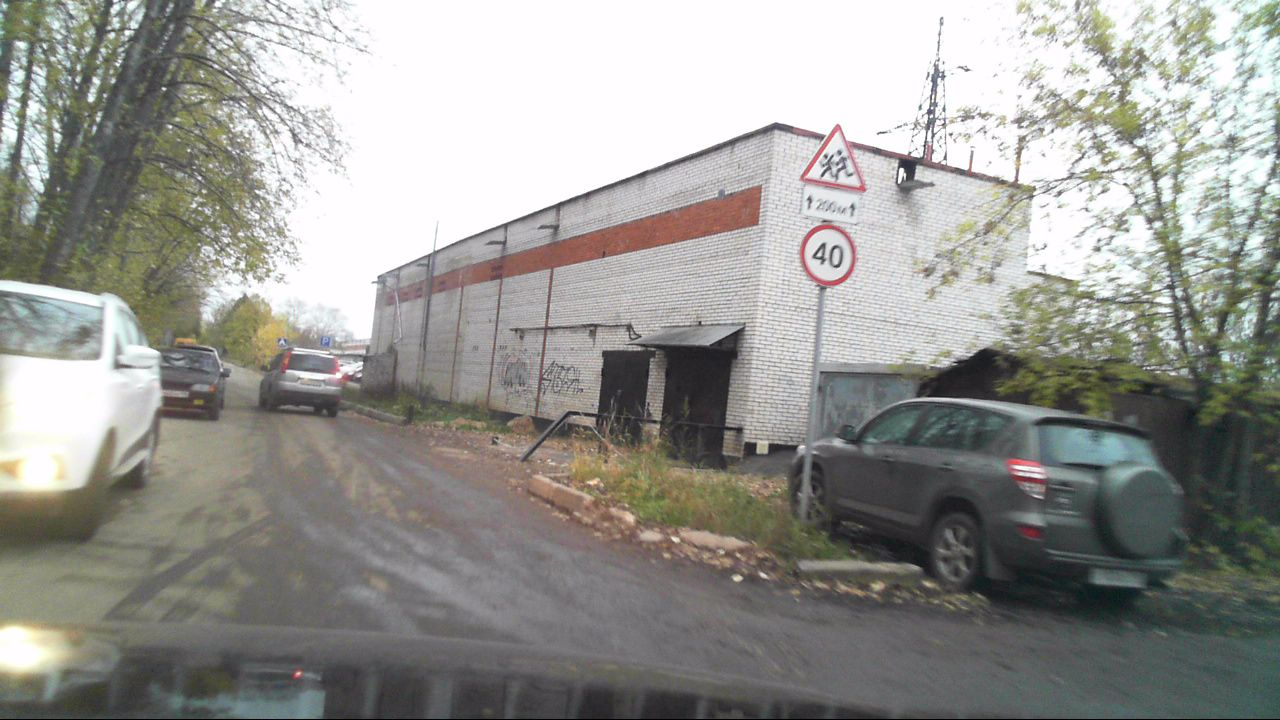speed_warning_40: (802, 224, 854, 284)
